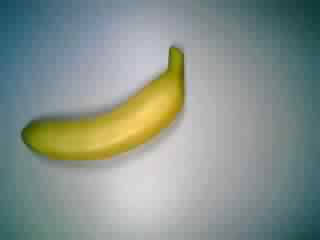banana: (16, 45, 188, 163)
